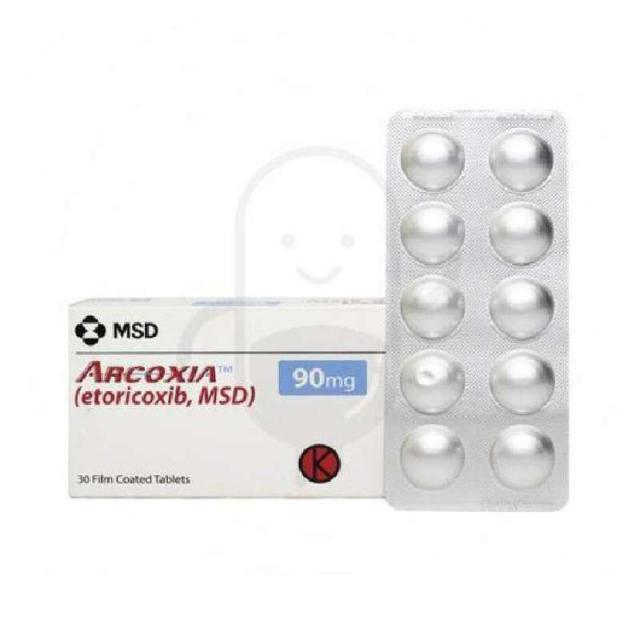drug-name: (72, 358, 220, 384)
